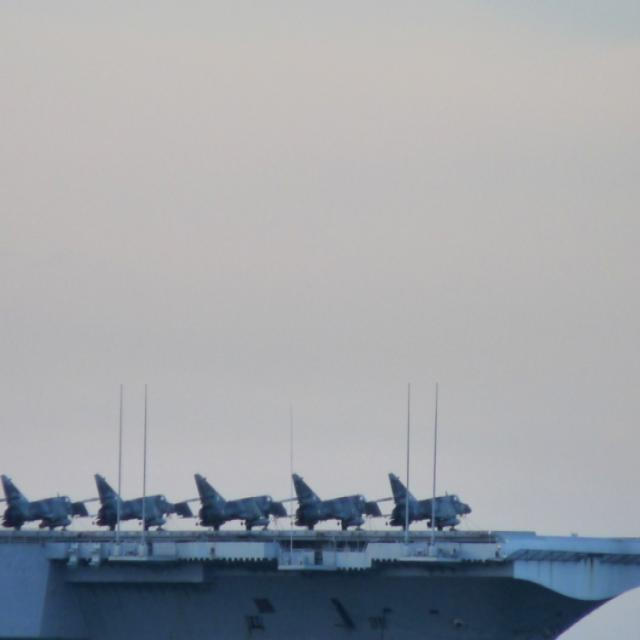Portanaves: (1, 373, 640, 640)
